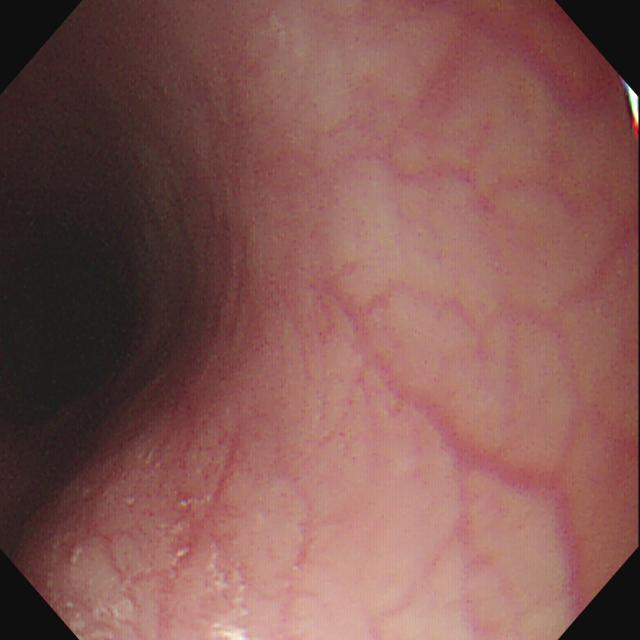A: (176, 431, 242, 569)
E: (21, 254, 104, 374)
J: (68, 531, 141, 640), (211, 544, 250, 640)
U: (623, 79, 640, 137)
